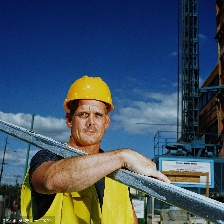helmet: (61, 73, 117, 105)
person: (17, 74, 151, 224)
